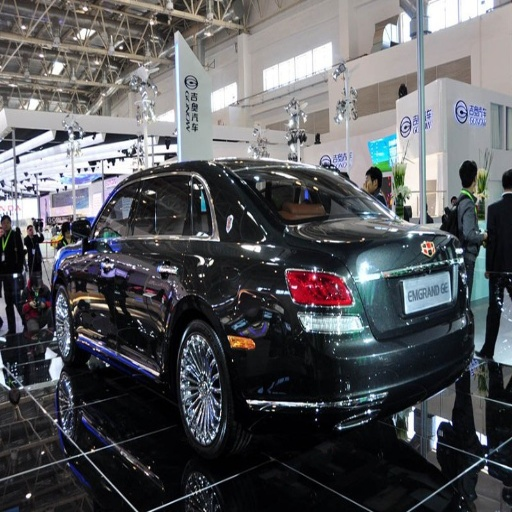back_bumper: (240, 311, 478, 459)
back_glass: (229, 166, 383, 221)
back_left_door: (118, 173, 200, 366)
